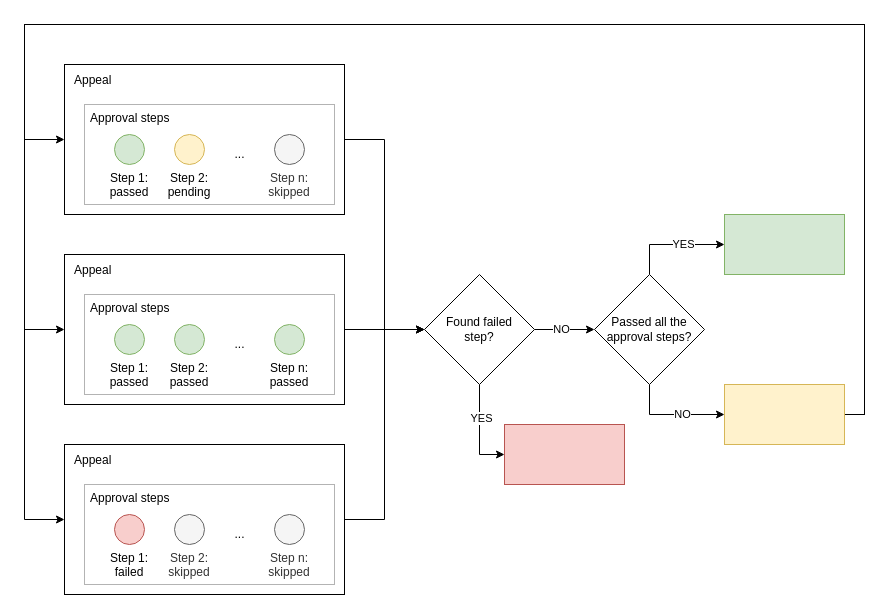
Some shapes in this 890 by 612 pixel diagram are drawn without their labels. Each missing label, with the centre of its shape:
"Approve request" goes at pixel 784 244.
"Keep in pending" goes at pixel 784 414.
"Reject request" goes at pixel 564 454.
